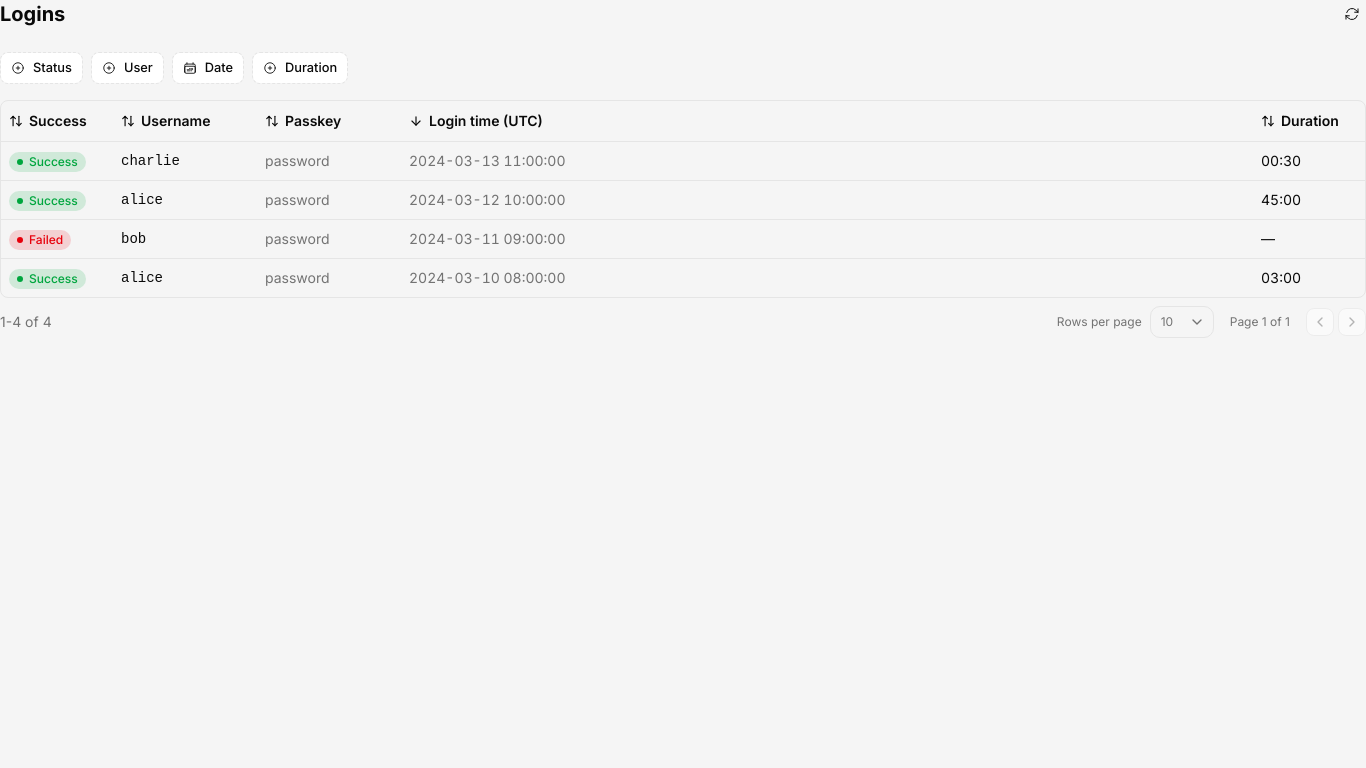
LoginsPage › username filter shows only selected user
This screenshot has width=1366, height=768.
Check: the text "charlie" is shown, box left=121, top=153, right=180, bottom=169
Click the button with aria-label "filter by username" at (127, 68), box left=91, top=52, right=164, bottom=84
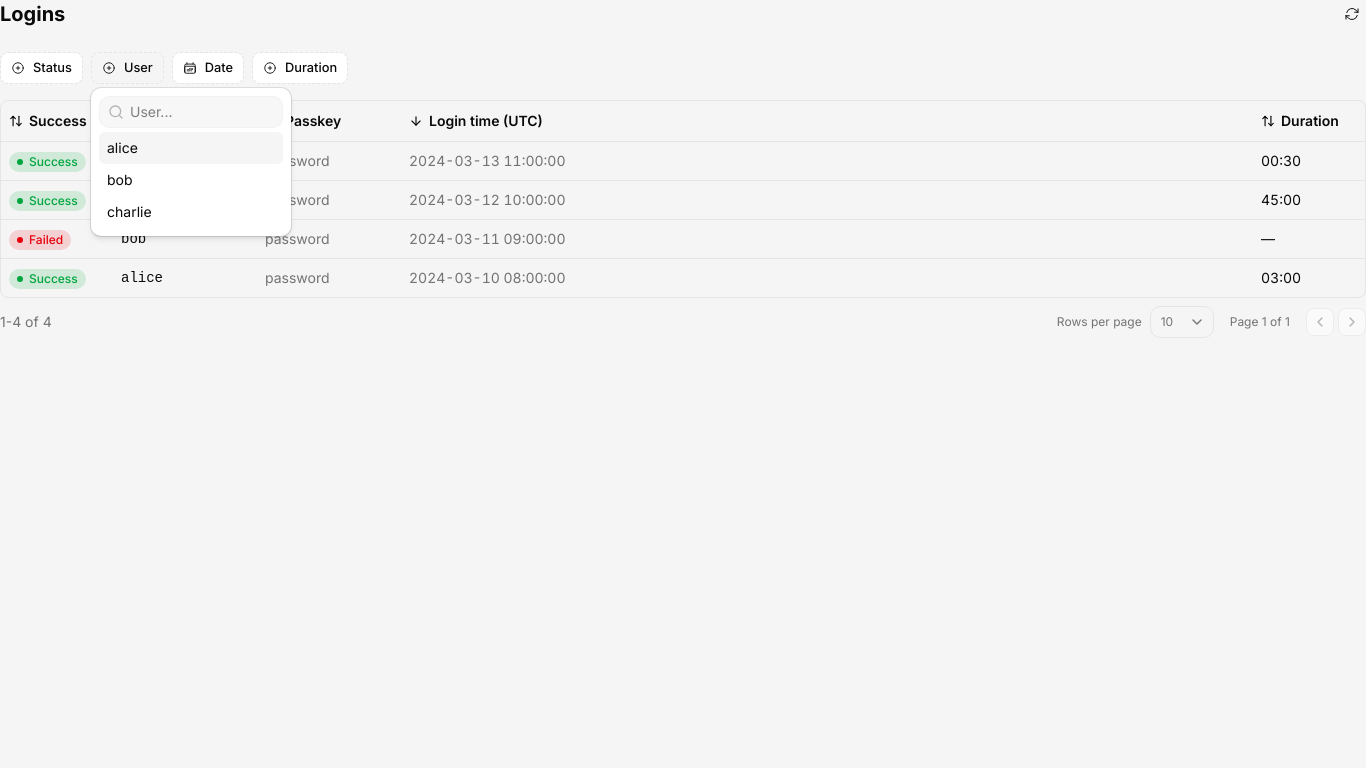
Click the option "charlie" at (129, 212), box left=107, top=203, right=152, bottom=220
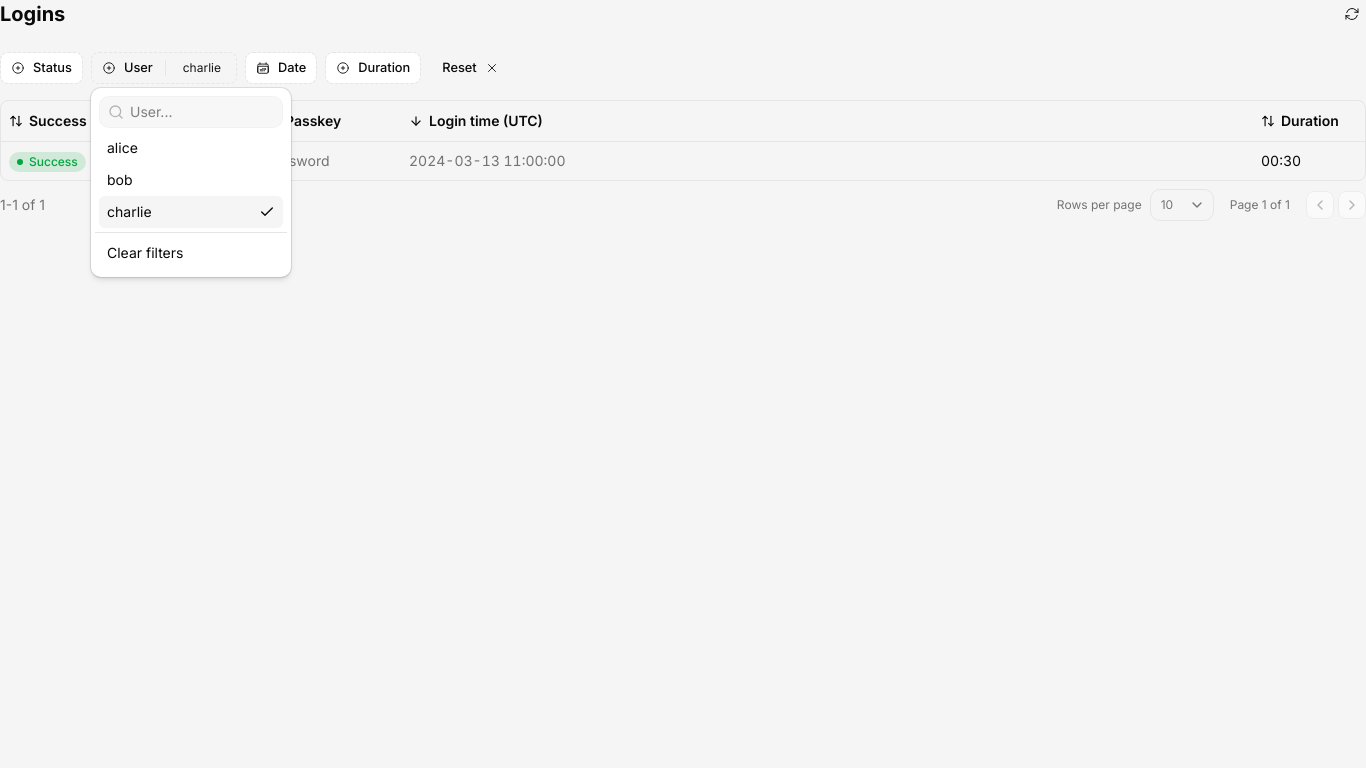
Press Escape
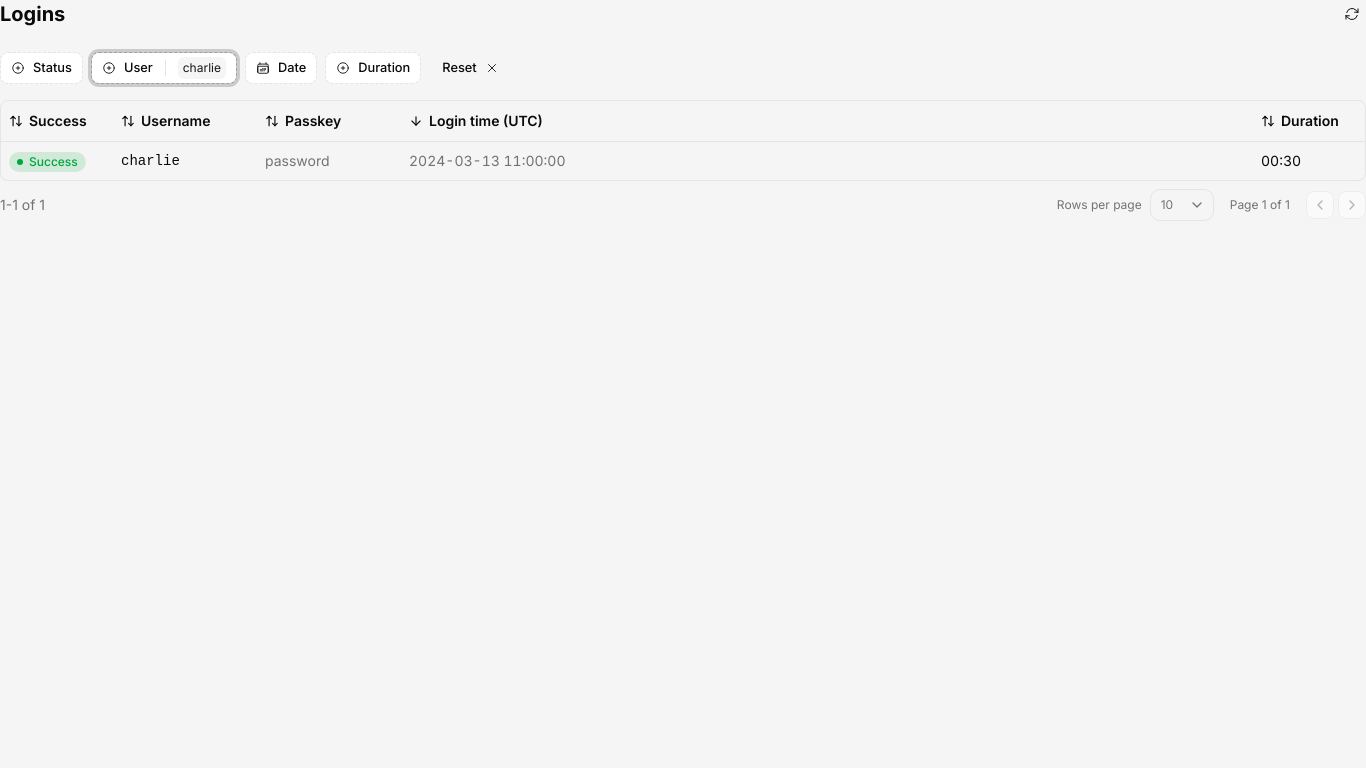
Check: the text "charlie" next to "password" is shown, box left=121, top=153, right=180, bottom=169
Check: the option "bob" is gone
Check: the option "alice" is gone
